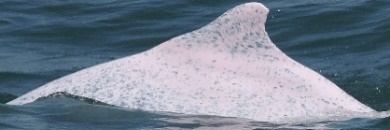fin: (6, 2, 390, 128)
